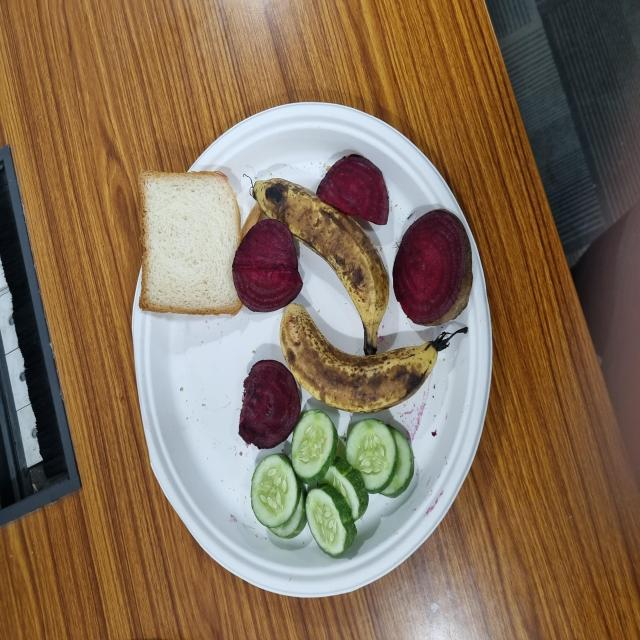banana: (216, 333, 348, 523)
cucumber: (108, 461, 167, 555), (79, 335, 142, 408), (62, 409, 117, 479), (119, 385, 173, 451)
